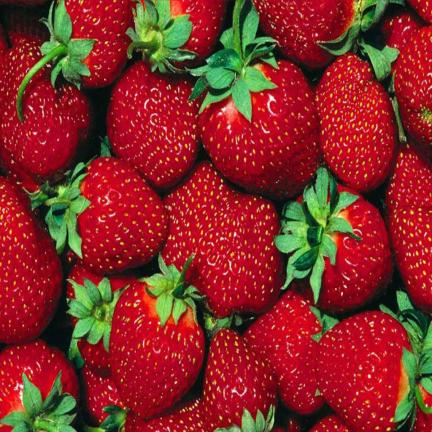strawberry: (191, 0, 321, 199), (162, 162, 283, 317), (276, 168, 392, 313), (316, 292, 431, 431), (33, 157, 167, 274), (110, 256, 204, 418), (17, 0, 131, 120), (0, 43, 90, 191), (107, 62, 198, 188), (316, 53, 396, 192), (317, 312, 410, 431), (0, 177, 62, 343), (244, 291, 323, 415), (254, 0, 395, 68), (387, 143, 431, 311), (203, 329, 276, 430), (67, 264, 135, 369), (254, 0, 359, 68), (0, 340, 78, 431), (128, 0, 227, 71), (388, 206, 431, 311), (395, 27, 431, 144), (102, 399, 213, 431), (386, 143, 431, 212), (81, 365, 123, 426), (140, 399, 213, 431), (3, 6, 49, 46), (381, 9, 421, 51), (215, 407, 284, 431), (310, 415, 351, 431), (408, 0, 431, 23), (412, 408, 431, 431), (284, 414, 302, 431), (0, 25, 8, 59)
